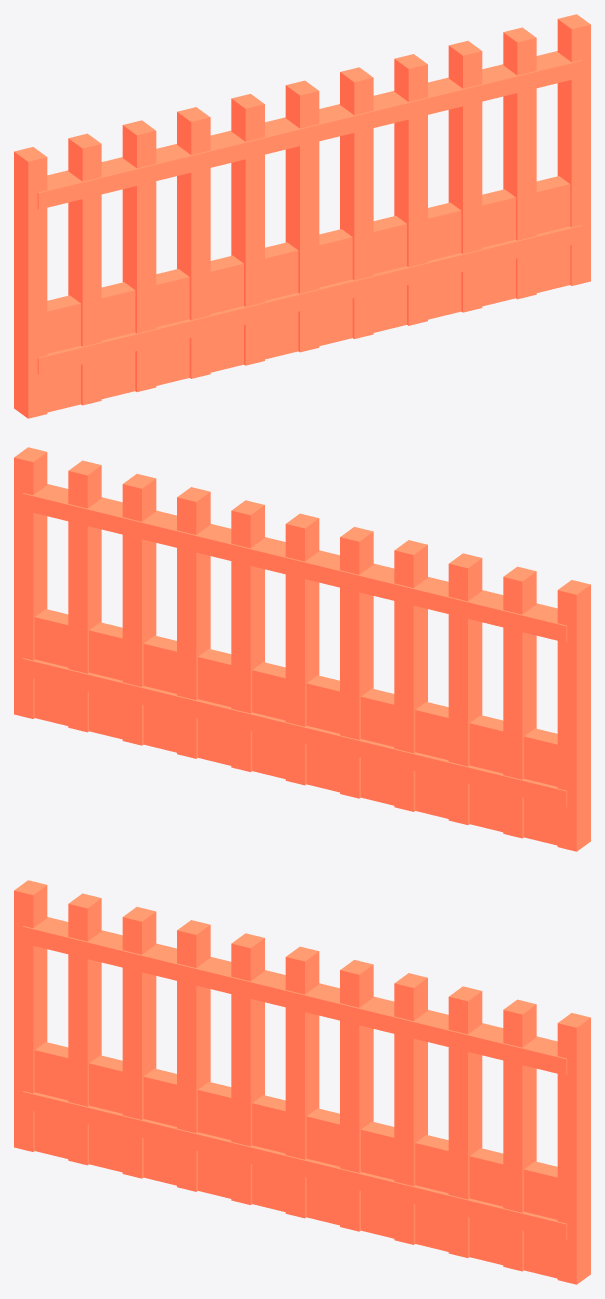
File: SM_R02A_ArenaEntry_B.fbx
3 views of the same model, one above another, from view 1: azimuth 30°, elevation 25°; view 2: azimuth 150°, elevation 25°; view 3: azimuth 330°, elevation 25° (orthographic).
Visible parts, largest first — view 1: SM_R02A_ArenaEntry_B; view 2: SM_R02A_ArenaEntry_B; view 3: SM_R02A_ArenaEntry_B.
Part boxes in pixels (x1=…): SM_R02A_ArenaEntry_B: x1=14, y1=14, x2=590, y2=418; SM_R02A_ArenaEntry_B: x1=14, y1=447, x2=590, y2=851; SM_R02A_ArenaEntry_B: x1=14, y1=880, x2=590, y2=1284.
Size of the model in its own units: 642 by 32 by 280.
